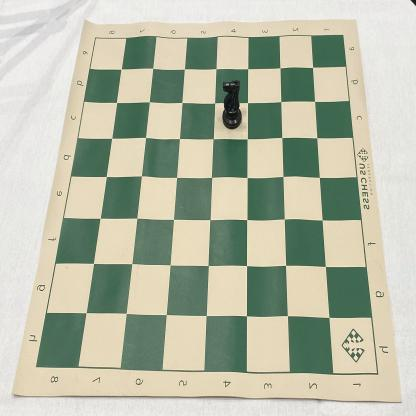black-knight: (221, 78, 243, 130)
